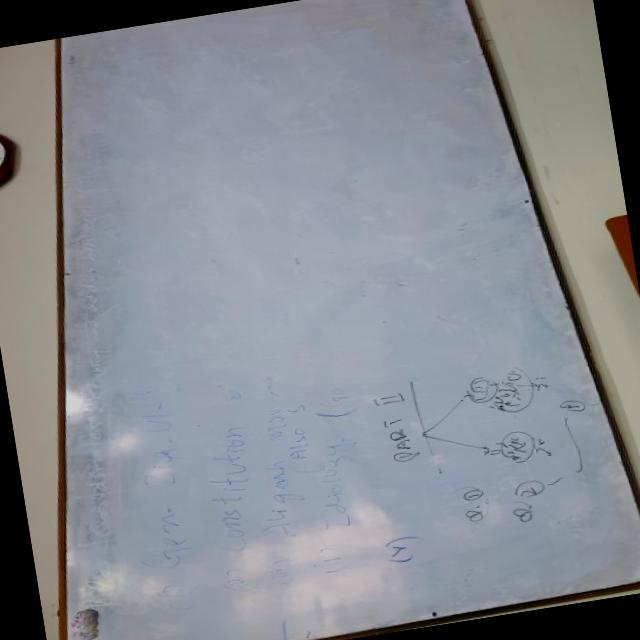White-board: (60, 0, 640, 640)
